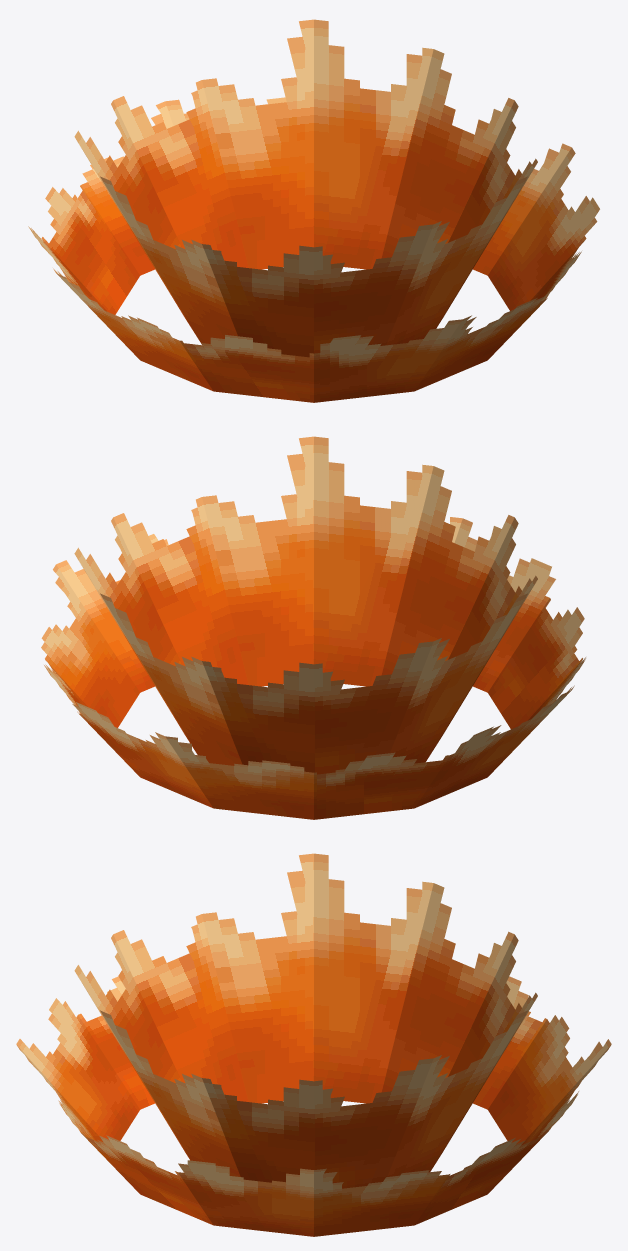
File: old_koopa_agb-water_efct.glb
3 renders of one model, top to bottom at view 1: azimuth 30°, elevation 25°; view 2: azimuth 150°, elevation 25°; view 3: azimuth 270°, elevation 25°, orthographic.
Visible parts, largest first — view 1: water_efct; view 2: water_efct; view 3: water_efct.
Boxes of the visible parts, x1=… form: water_efct: x1=28, y1=19, x2=599, y2=402; water_efct: x1=41, y1=436, x2=585, y2=819; water_efct: x1=16, y1=853, x2=611, y2=1236.
Bounding box in the file's own units: 1.48 × 0.54 × 1.48.
Materials: 1 (1 with a texture image).
